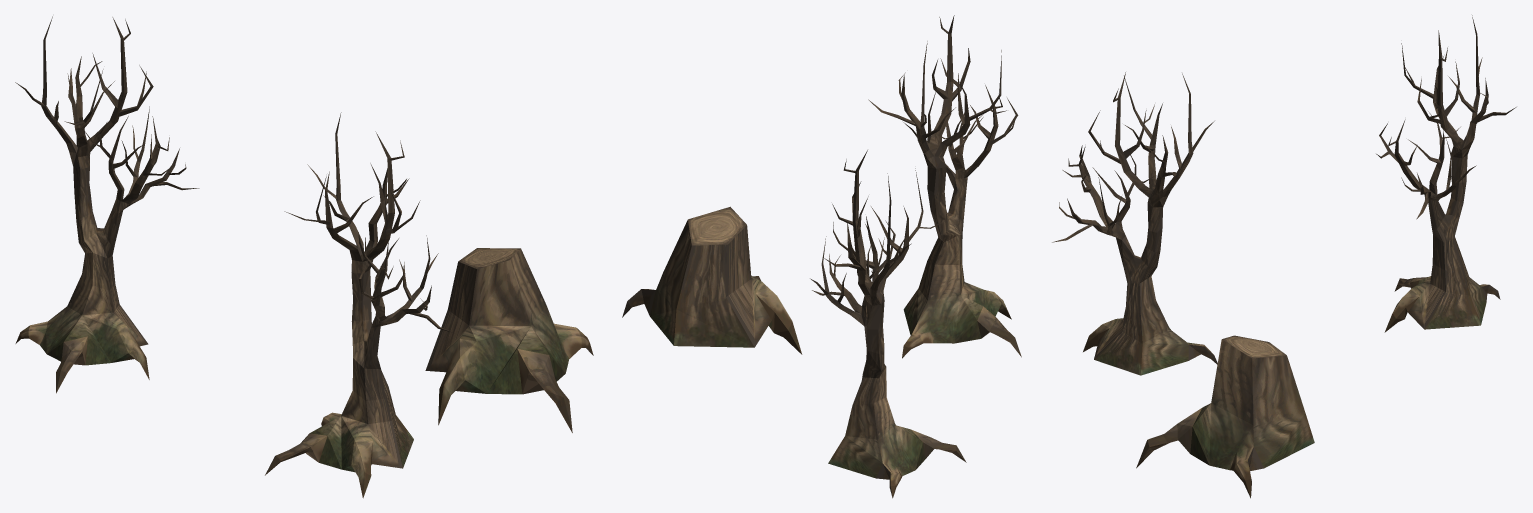
File: plants_tall_tree_trunks207.fbx
The picture shows the model from 3 angles, left to right: view 1: azimuth 30°, elevation 25°; view 2: azimuth 150°, elevation 25°; view 3: azimuth 270°, elevation 25°; orthographic projection. The views are drawn at different scales.
Visible parts, largest first — view 1: obj0.158; view 2: obj0.158; view 3: obj0.158.
Part boxes in pixels (x1,y1,x2,y2): obj0.158: [15, 16, 593, 498]; obj0.158: [622, 15, 1021, 498]; obj0.158: [1052, 15, 1516, 498].
Size of the model in its own units: 12.26 by 9.41 by 12.44.
